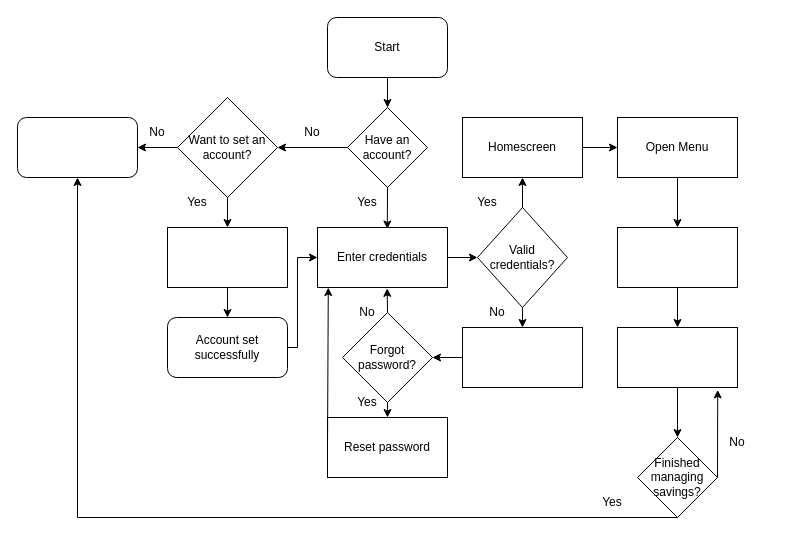
This 785x543 diagram has some shape labels left out. Here are the shapes that lost their labels. From the top down, the centre of each, then its label:
At pixel 77 147: "Exit".
At pixel 227 257: "Sign up".
At pixel 677 257: "Open Savings".
At pixel 522 357: "Login failed".
At pixel 677 357: "Manage Savings".
